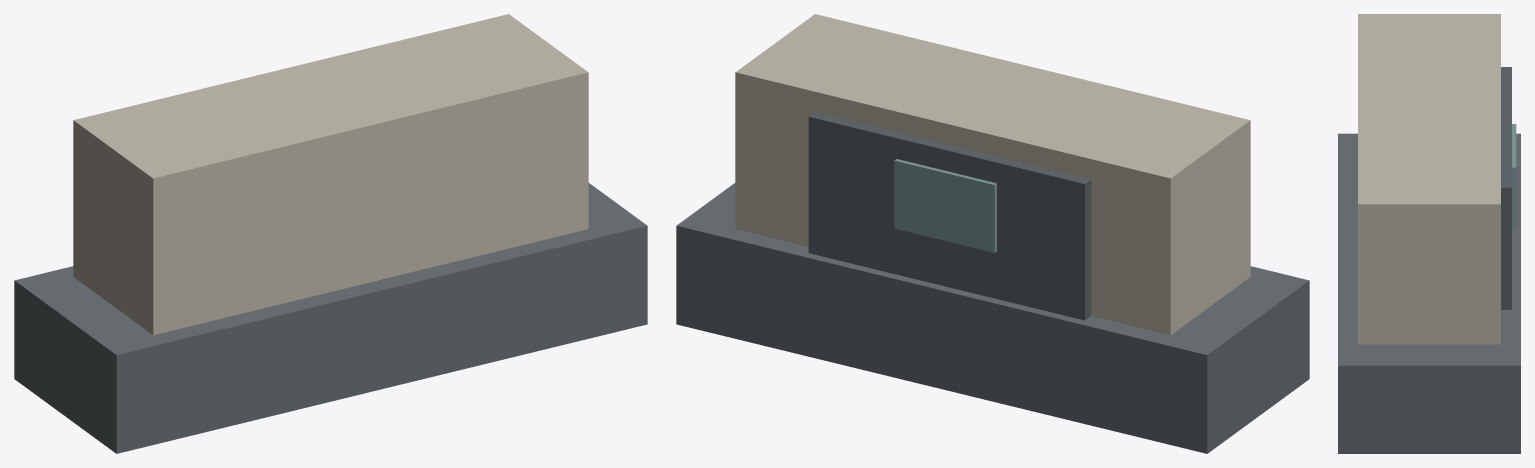
Rendered from iz3_environment_bench_01.glb.
3 views of the same model, side by side, from view 1: azimuth 30°, elevation 25°; view 2: azimuth 150°, elevation 25°; view 3: azimuth 270°, elevation 25° (orthographic). The views are drawn at different scales.
Visible parts, largest first — view 1: cabinet, base; view 2: cabinet, base, panel, display; view 3: cabinet, base, panel, display.
Boxes of the visible parts, x1,y1,x2,y2 form: cabinet: (73,14,588,335); base: (14,183,647,453); cabinet: (735,14,1250,335); base: (676,183,1309,453); panel: (808,112,1091,320); display: (894,159,996,252); cabinet: (1358,14,1500,344); base: (1338,133,1520,453); panel: (1501,67,1511,309); display: (1512,124,1516,228).
Bounding box in the file's own units: 1.8 × 0.828 × 0.6.
